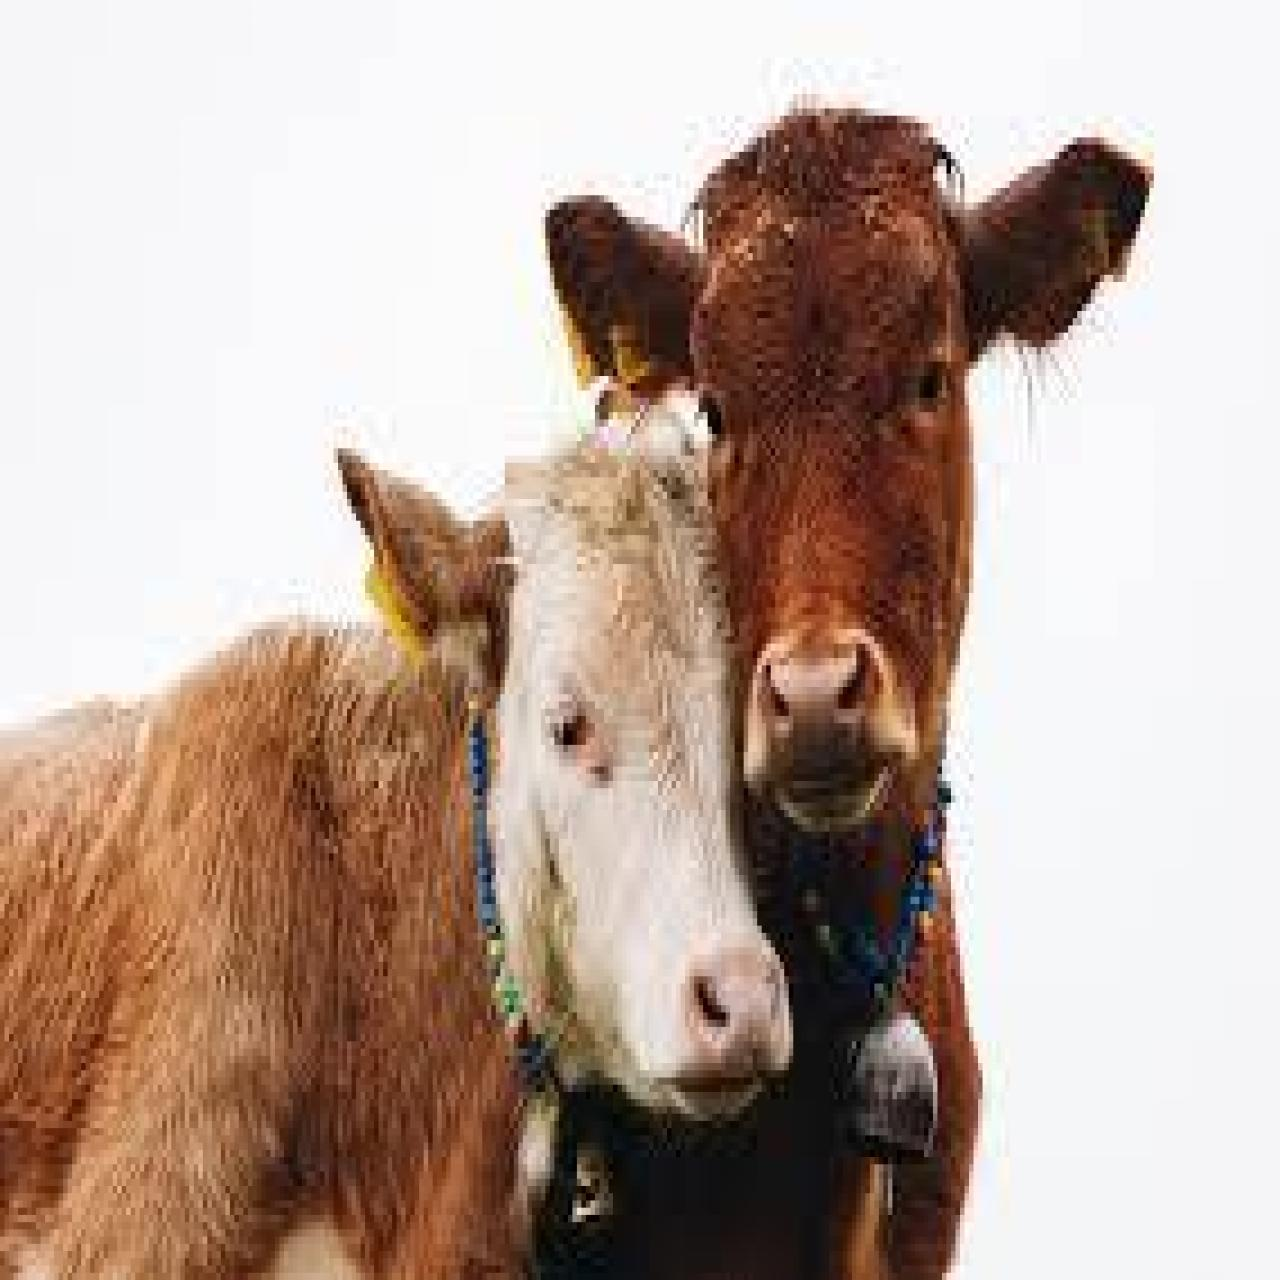cow: (545, 108, 1153, 1280), (7, 411, 795, 1280)
